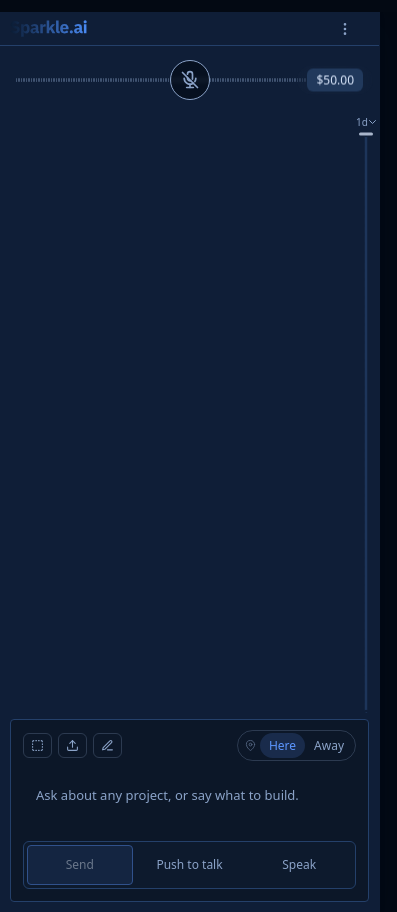
Test: the concierge reply linter is mounted › warns and still renders the turn when getConfig fails
Step 1. Type "what's the fleet doing?" into the text box → (190, 804), box [23,775,356,833]
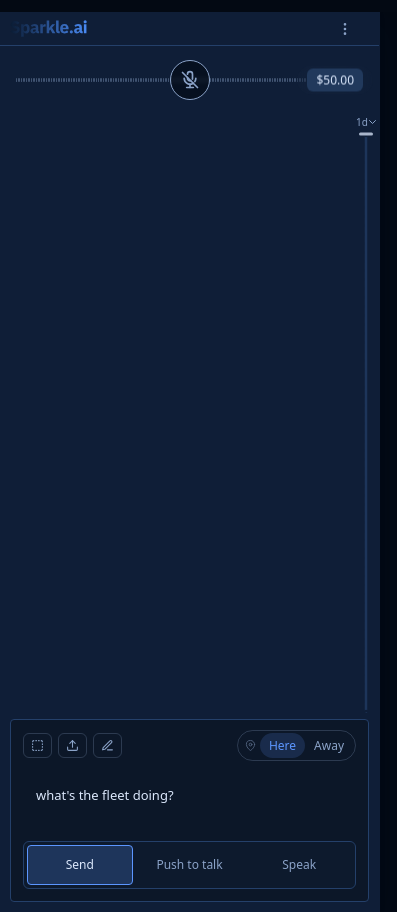
Step 2. Click the button "Send" → (80, 865), box [27,845,133,885]
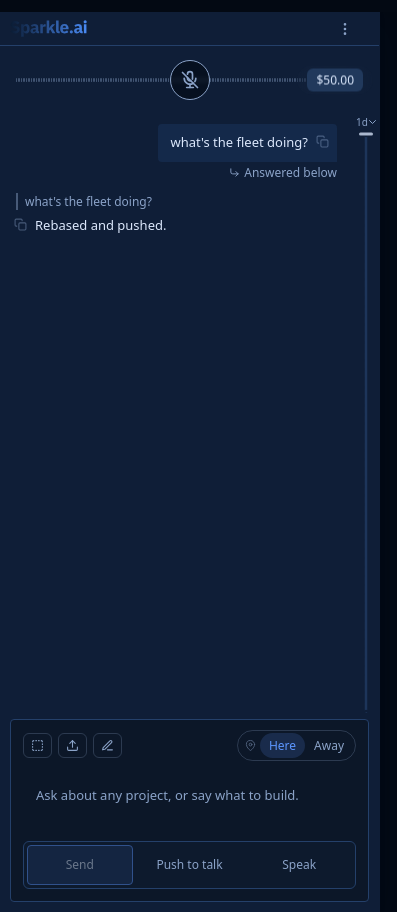
Check: the element with test id "concierge-thread" shows "Rebased and pushed.", box [35,216,166,234]
